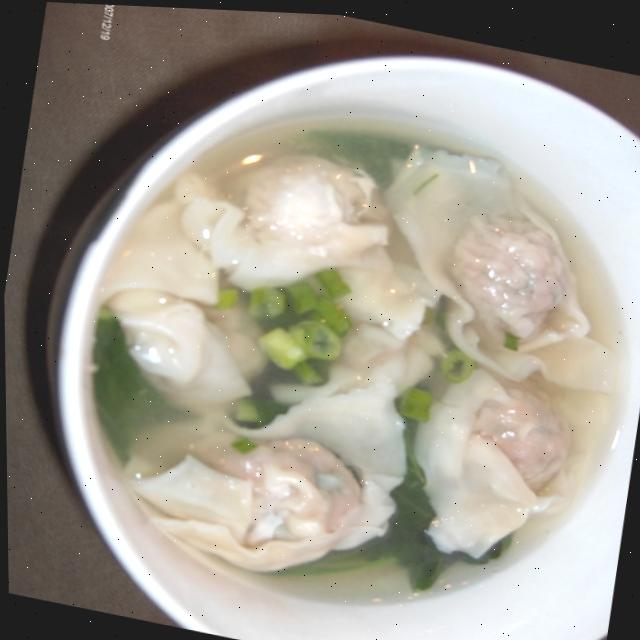汤锅炖物: (19, 15, 640, 640)
